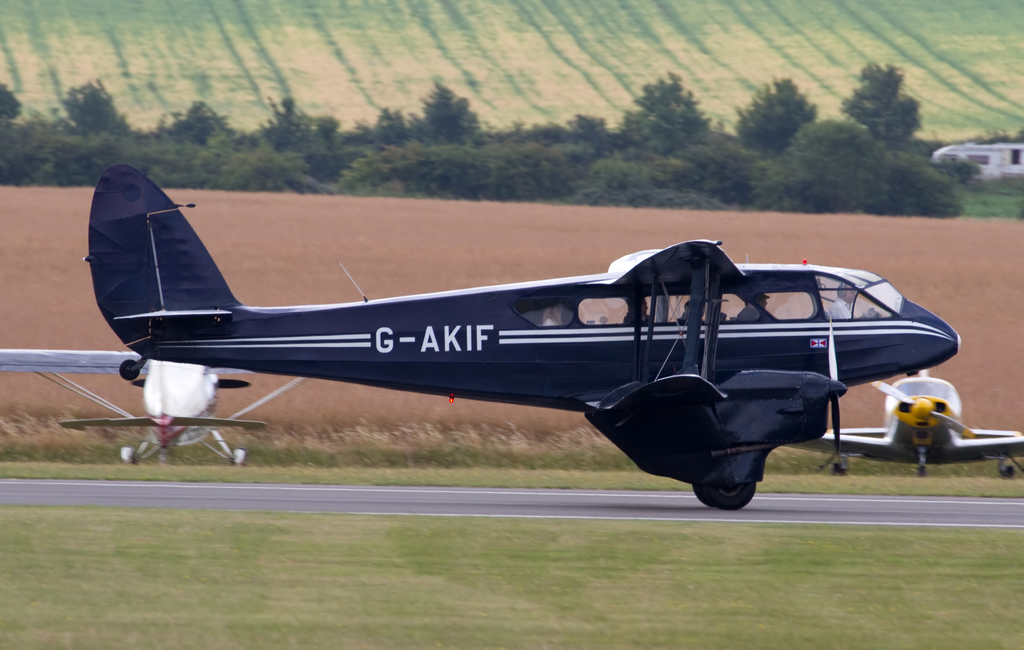Tree: (0, 59, 1024, 220)
